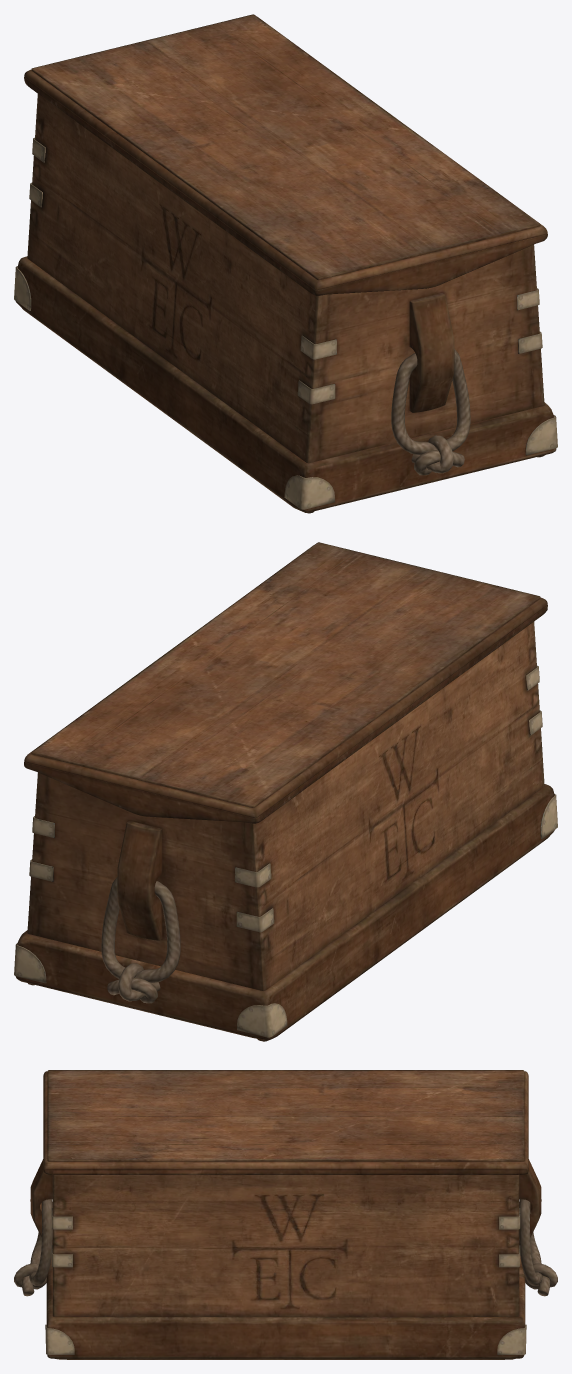
3 views of the same model, one above another, from view 1: azimuth 30°, elevation 25°; view 2: azimuth 150°, elevation 25°; view 3: azimuth 270°, elevation 25° (orthographic). The views are drawn at different scales.
Visible parts, largest first — view 1: wooden_crate_02_crate; view 2: wooden_crate_02_crate; view 3: wooden_crate_02_crate.
Part boxes in pixels (x1,y1,x2,y2): wooden_crate_02_crate: (14,14,557,513); wooden_crate_02_crate: (14,542,557,1041); wooden_crate_02_crate: (14,1070,557,1359).
Bounding box in the file's own units: 0.5291 × 0.4639 × 1.17.
1 material, 1 textured.
